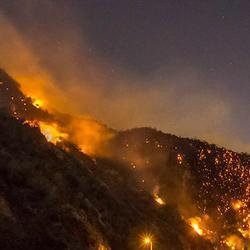fire: (39, 123, 58, 146), (138, 232, 158, 249), (189, 217, 205, 236), (32, 96, 49, 109)
